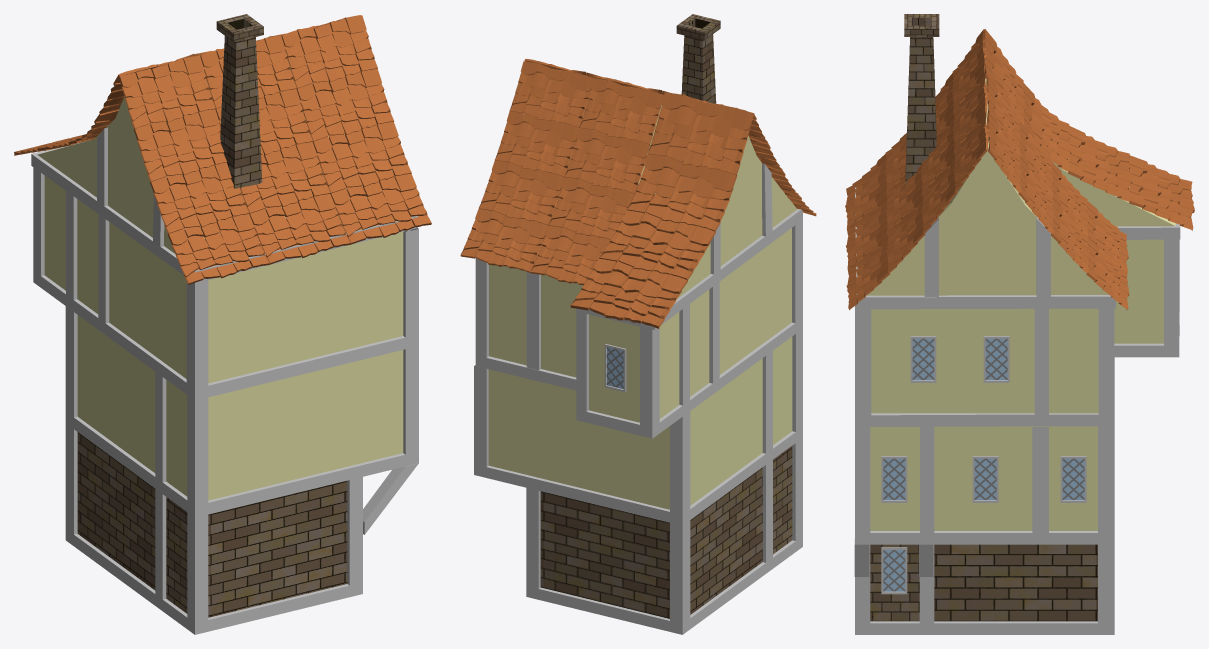
File: BlackSmith_V4.fbx
The picture shows the model from 3 angles, left to right: view 1: azimuth 30°, elevation 25°; view 2: azimuth 150°, elevation 25°; view 3: azimuth 270°, elevation 25°; orthographic projection. The views are drawn at different scales.
Parts seen in each view (by area): view 1: TownBuilding_1; view 2: TownBuilding_1; view 3: TownBuilding_1.
Boxes of the visible parts, bbox=[...] form: TownBuilding_1: bbox=[14, 14, 431, 634]; TownBuilding_1: bbox=[460, 14, 816, 634]; TownBuilding_1: bbox=[845, 14, 1194, 634].
Size of the model in its own units: 553 by 1212 by 675.
